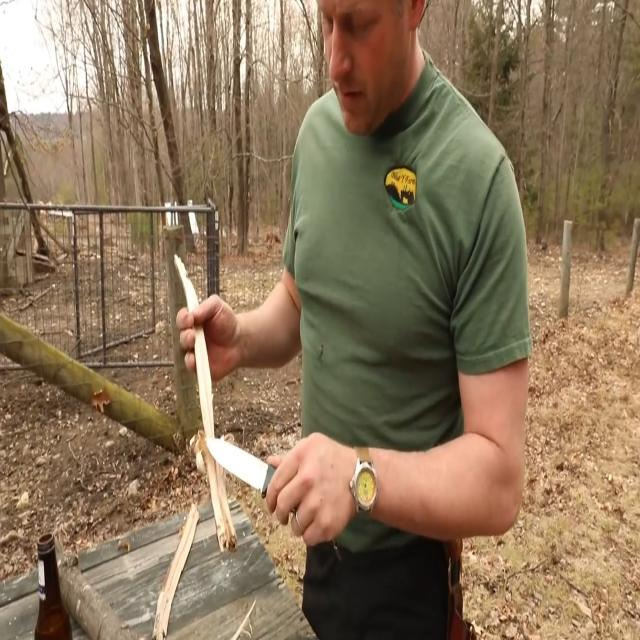knife: (206, 432, 278, 511)
